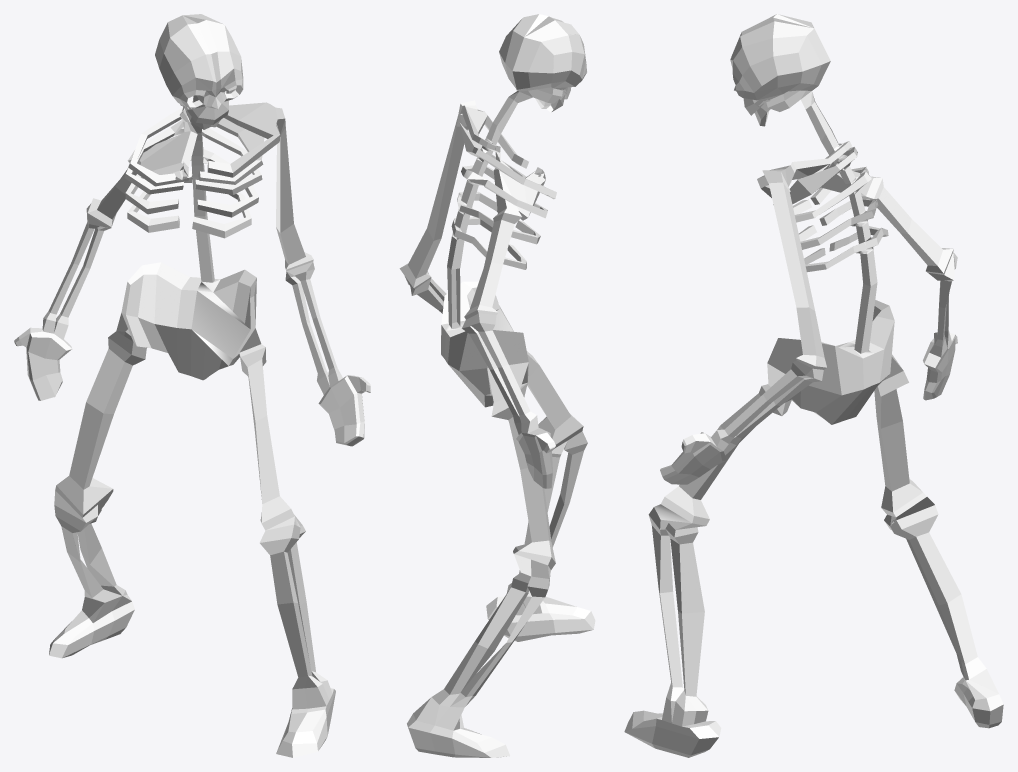
File: SkeletonIdle(98).obj
The picture shows the model from 3 angles, left to right: view 1: azimuth 30°, elevation 25°; view 2: azimuth 150°, elevation 25°; view 3: azimuth 270°, elevation 25°; orthographic projection. The views are drawn at different scales.
Parts seen in each view (by area): view 1: Object002; view 2: Object002; view 3: Object002.
Part boxes in pixels (box(x1,y1,x2,y2)): Object002: box(14, 14, 370, 757); Object002: box(399, 14, 595, 757); Object002: box(624, 14, 1003, 757).
Size of the model in its own units: 391 by 1127 by 555.
